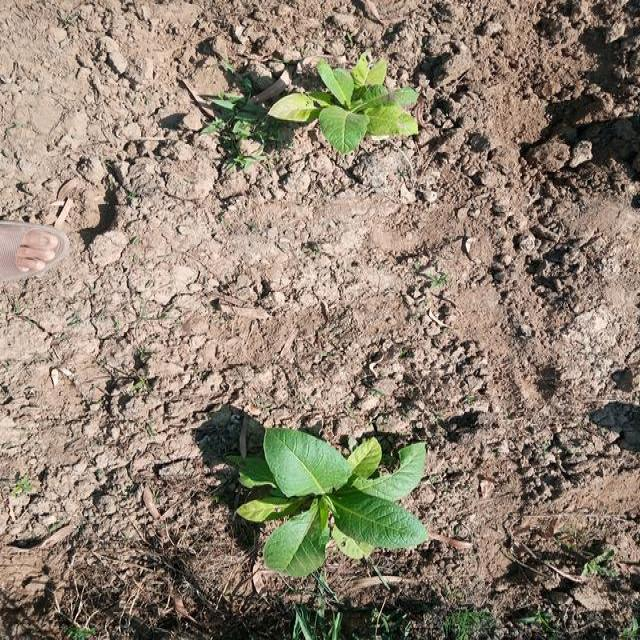crop: (260, 428, 430, 580), (280, 47, 422, 163)
